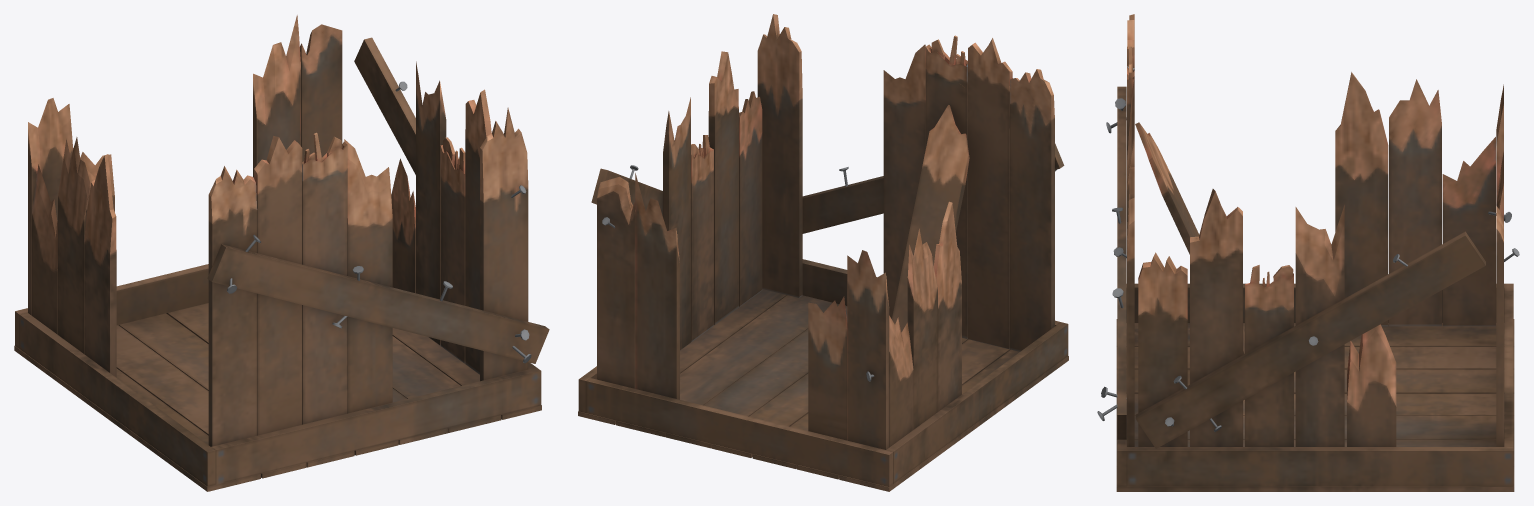
Rendered from DamagedCrate03.glb.
The picture shows the model from 3 angles, left to right: view 1: azimuth 30°, elevation 25°; view 2: azimuth 150°, elevation 25°; view 3: azimuth 270°, elevation 25°; orthographic projection. The views are drawn at different scales.
Parts seen in each view (by area): view 1: Cube_005; view 2: Cube_005; view 3: Cube_005.
Part boxes in pixels (box(x1,y1,x2,y2)): Cube_005: box(14, 15, 549, 491); Cube_005: box(578, 14, 1068, 491); Cube_005: box(1097, 14, 1519, 491).
Bounding box in the file's own units: 0.8203 × 0.7591 × 0.8499.
Materials: 1 (1 with a texture image).
